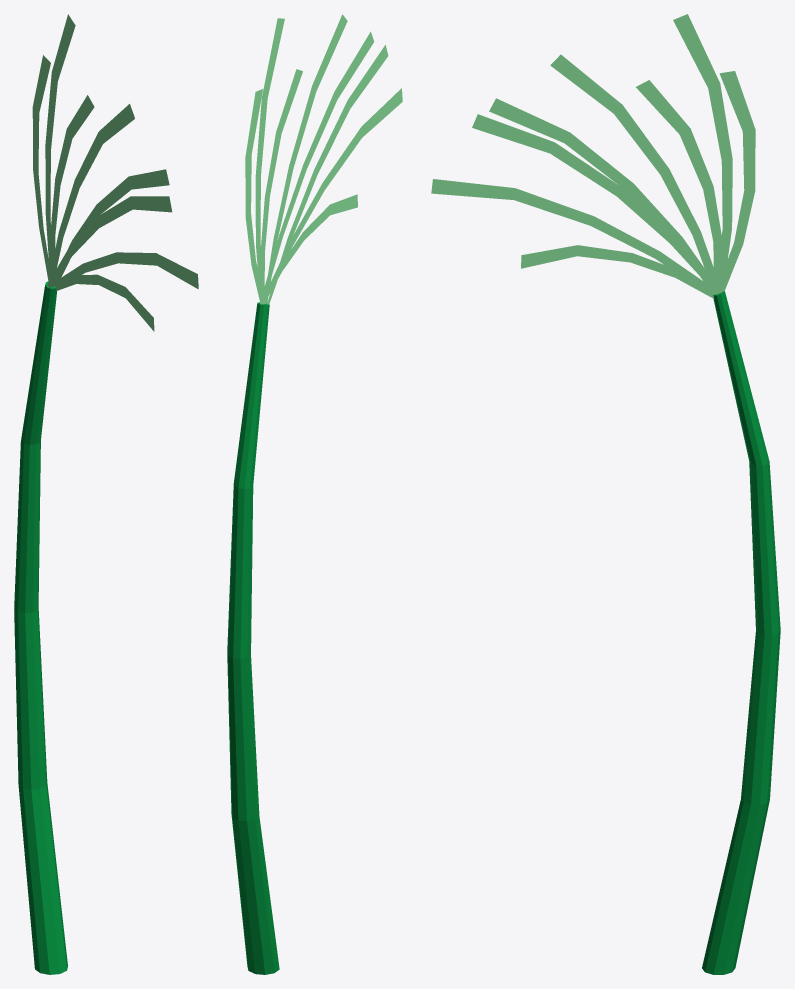
The model's file is Flw4.fbx.
The picture shows the model from 3 angles, left to right: view 1: azimuth 30°, elevation 25°; view 2: azimuth 150°, elevation 25°; view 3: azimuth 270°, elevation 25°; orthographic projection. The views are drawn at different scales.
Visible parts, largest first — view 1: Cylinder.009; view 2: Cylinder.009; view 3: Cylinder.009.
Part boxes in pixels (x1,y1,x2,y2): Cylinder.009: (14, 14, 198, 974); Cylinder.009: (227, 14, 402, 974); Cylinder.009: (431, 14, 780, 974).
Size of the model in its own units: 4.92 by 162 by 53.83.
